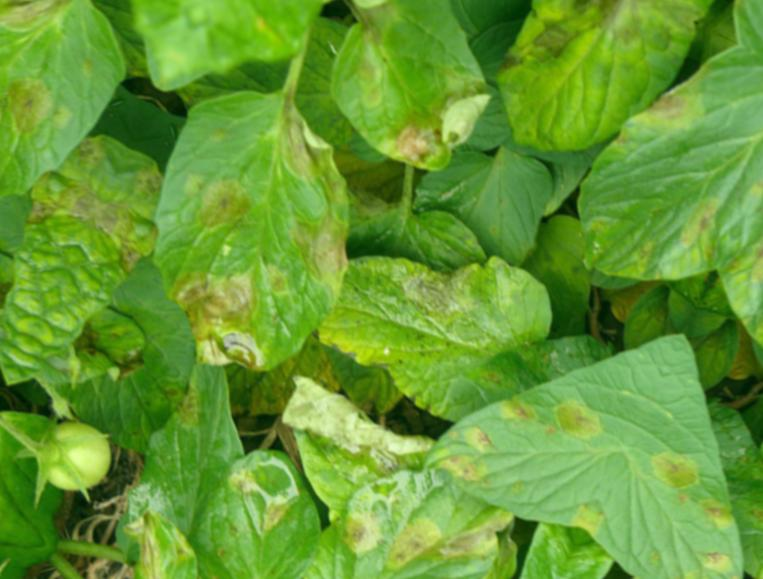Tomato leaf late blight: (366, 170, 716, 572), (78, 53, 423, 408), (270, 200, 591, 491), (530, 1, 763, 327), (264, 0, 560, 215), (452, 0, 712, 209), (265, 406, 544, 579), (149, 425, 363, 579), (88, 483, 240, 579)
